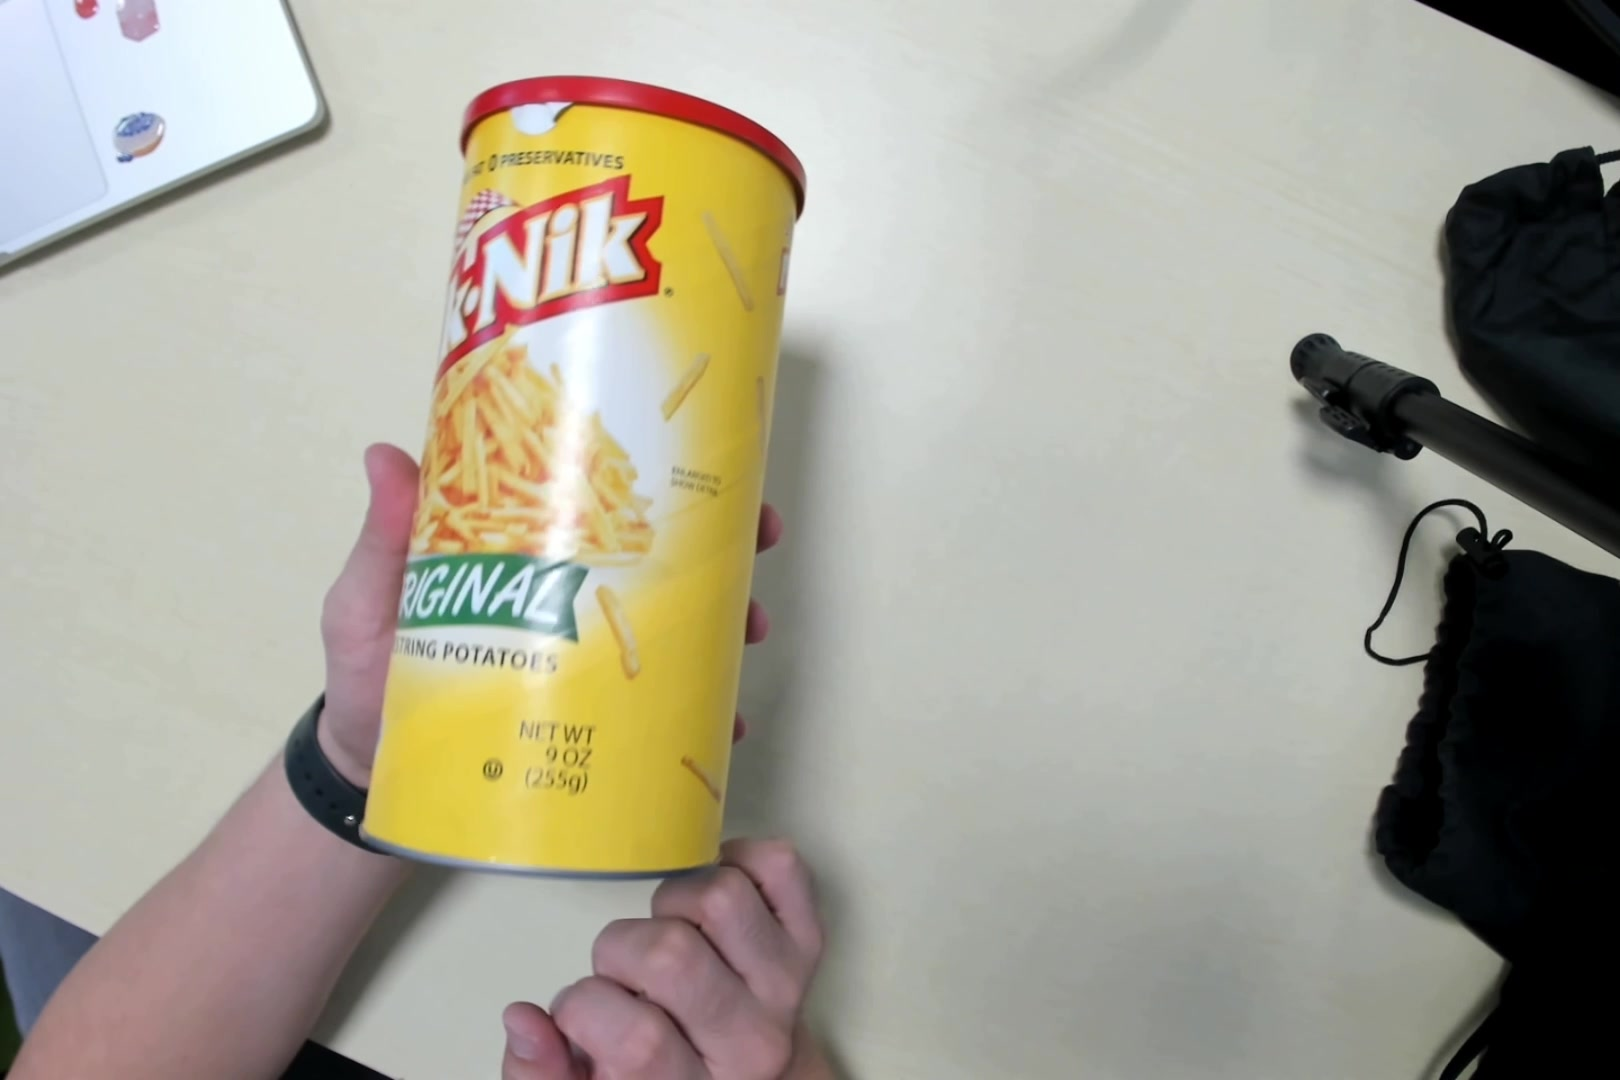PotatoChipsKeropok_200-299g_NonHalal_NonHealthy: (381, 78, 805, 876)
